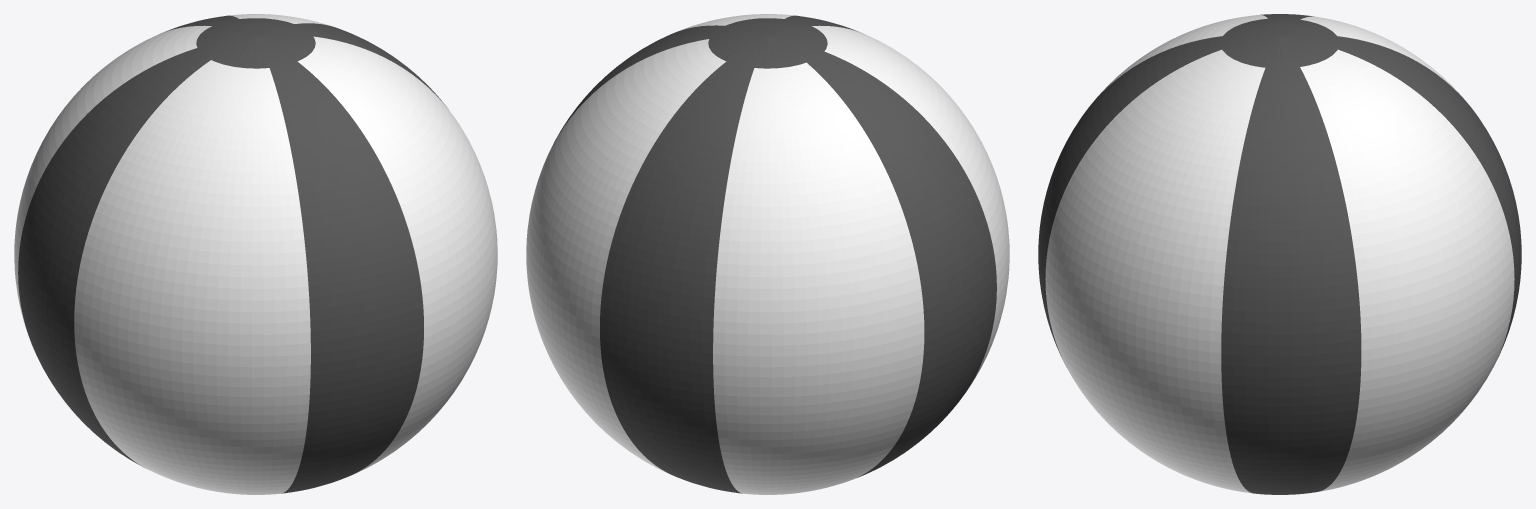
Rendered from fun_wheel.dae.
3 renders of one model, left to right at view 1: azimuth 30°, elevation 25°; view 2: azimuth 150°, elevation 25°; view 3: azimuth 270°, elevation 25°, orthographic.
Parts seen in each view (by area): view 1: wheel.001; view 2: wheel.001; view 3: wheel.001.
Boxes of the visible parts, <box> form: wheel.001: <box>14,14,497,494</box>; wheel.001: <box>526,14,1009,494</box>; wheel.001: <box>1038,14,1521,494</box>.
Bounding box in the file's own units: 0.125 × 0.125 × 0.1247.
Materials: 2 (2 with a texture image).
